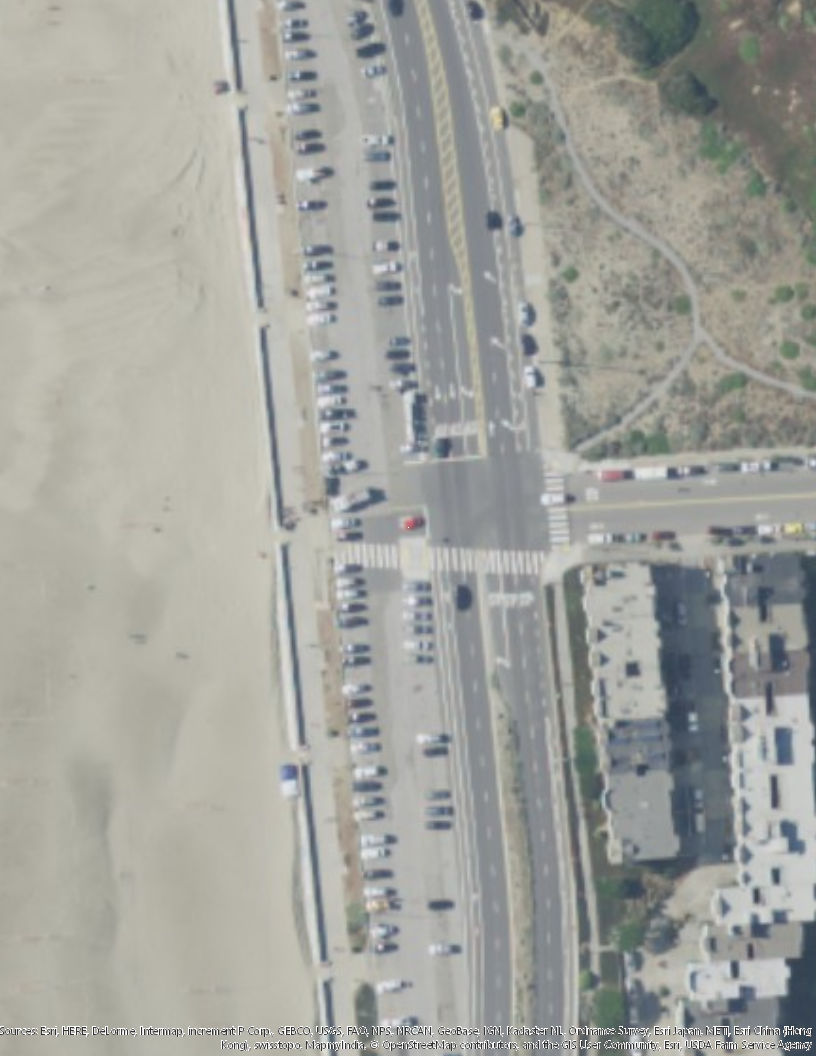zebracross: (433, 545, 543, 574), (546, 473, 573, 549), (336, 543, 401, 569)
